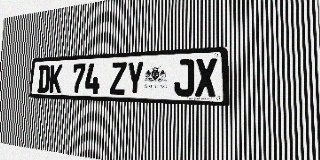4: (85, 63, 100, 94)
7: (71, 64, 86, 94)
D: (37, 65, 50, 93)
J: (174, 59, 194, 96)
K: (49, 65, 63, 93)
X: (195, 58, 217, 97)
Y: (126, 61, 144, 95)
Z: (110, 62, 127, 95)
